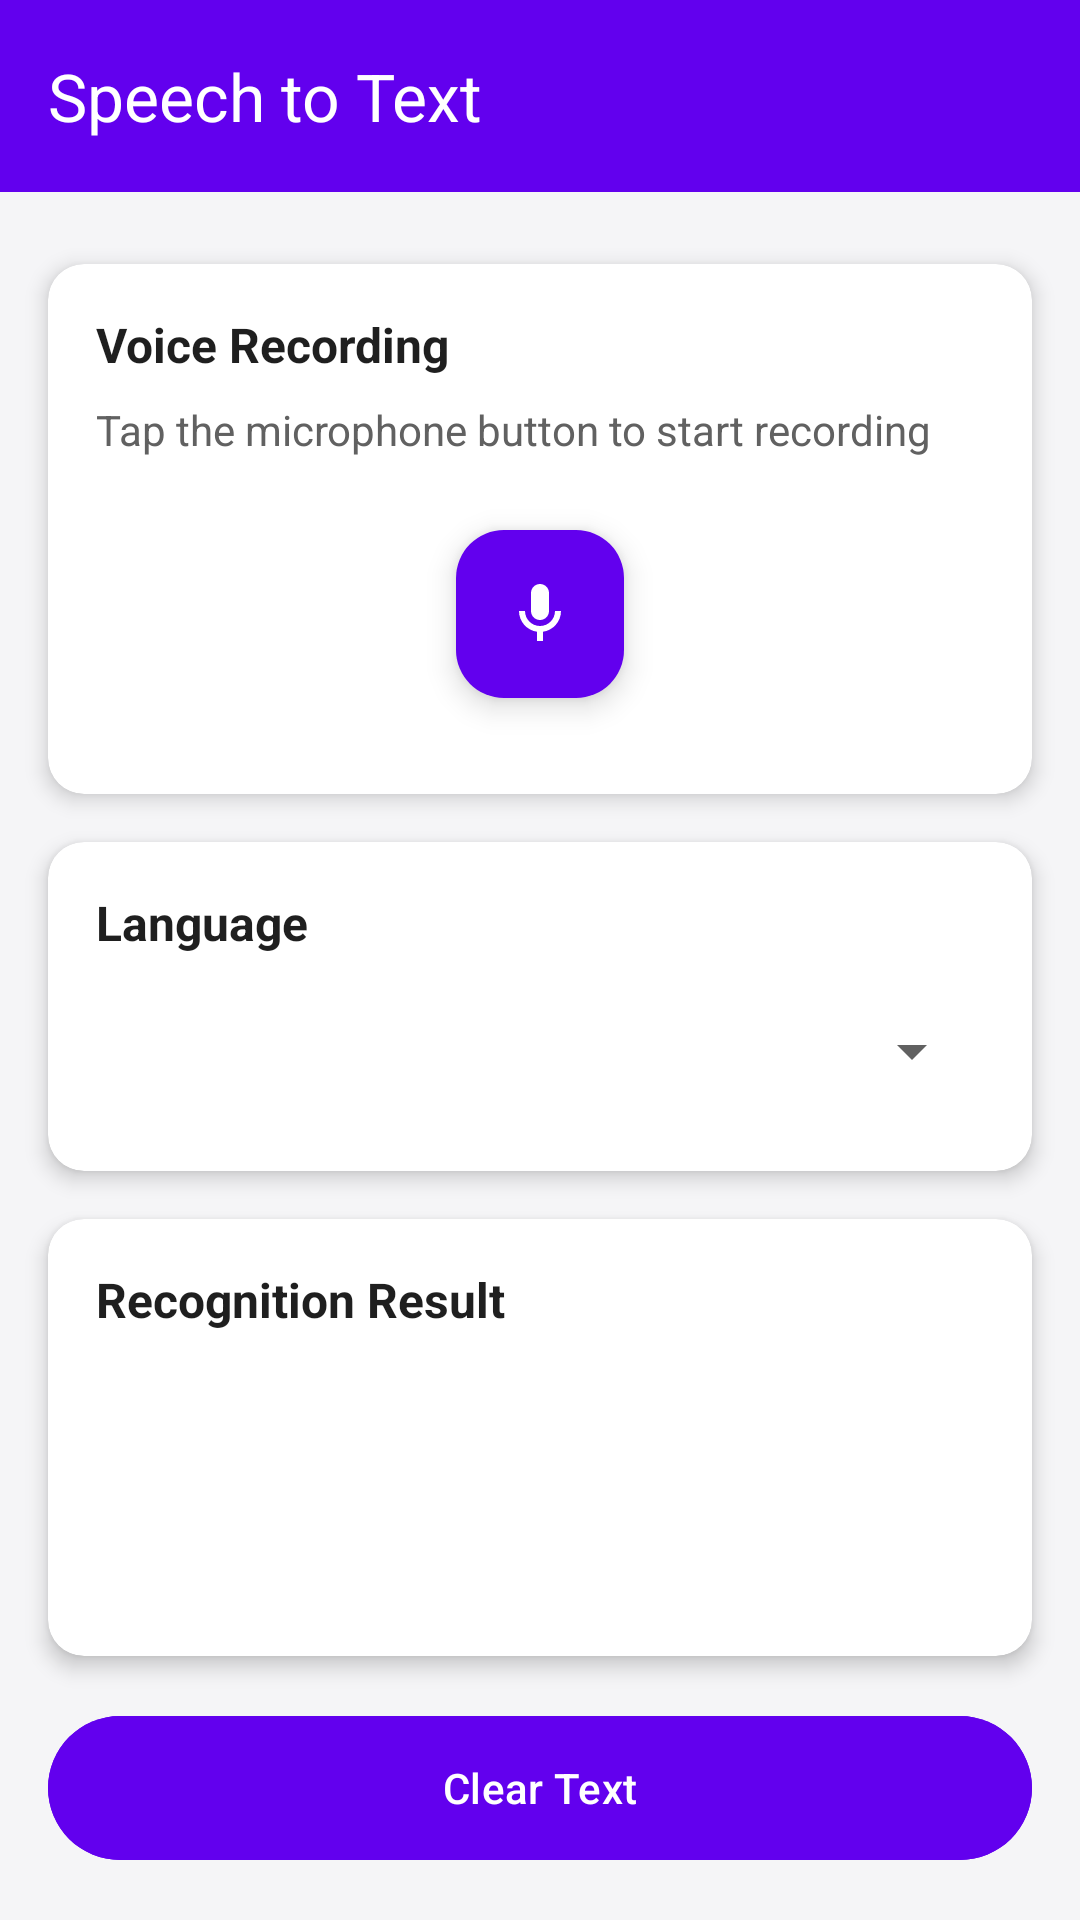

Screen size 1080w x 1920h. Icon name, then its center in pixels as [x,y]:
mic: [540,614]
